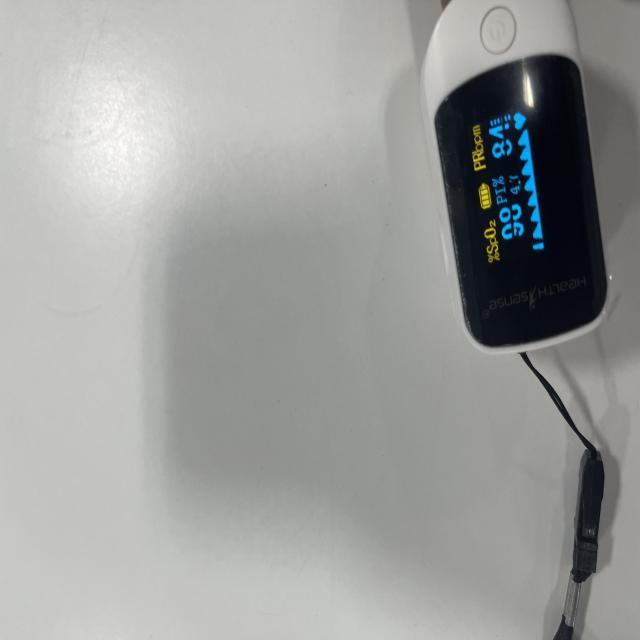spo2: (420, 0, 640, 392)
